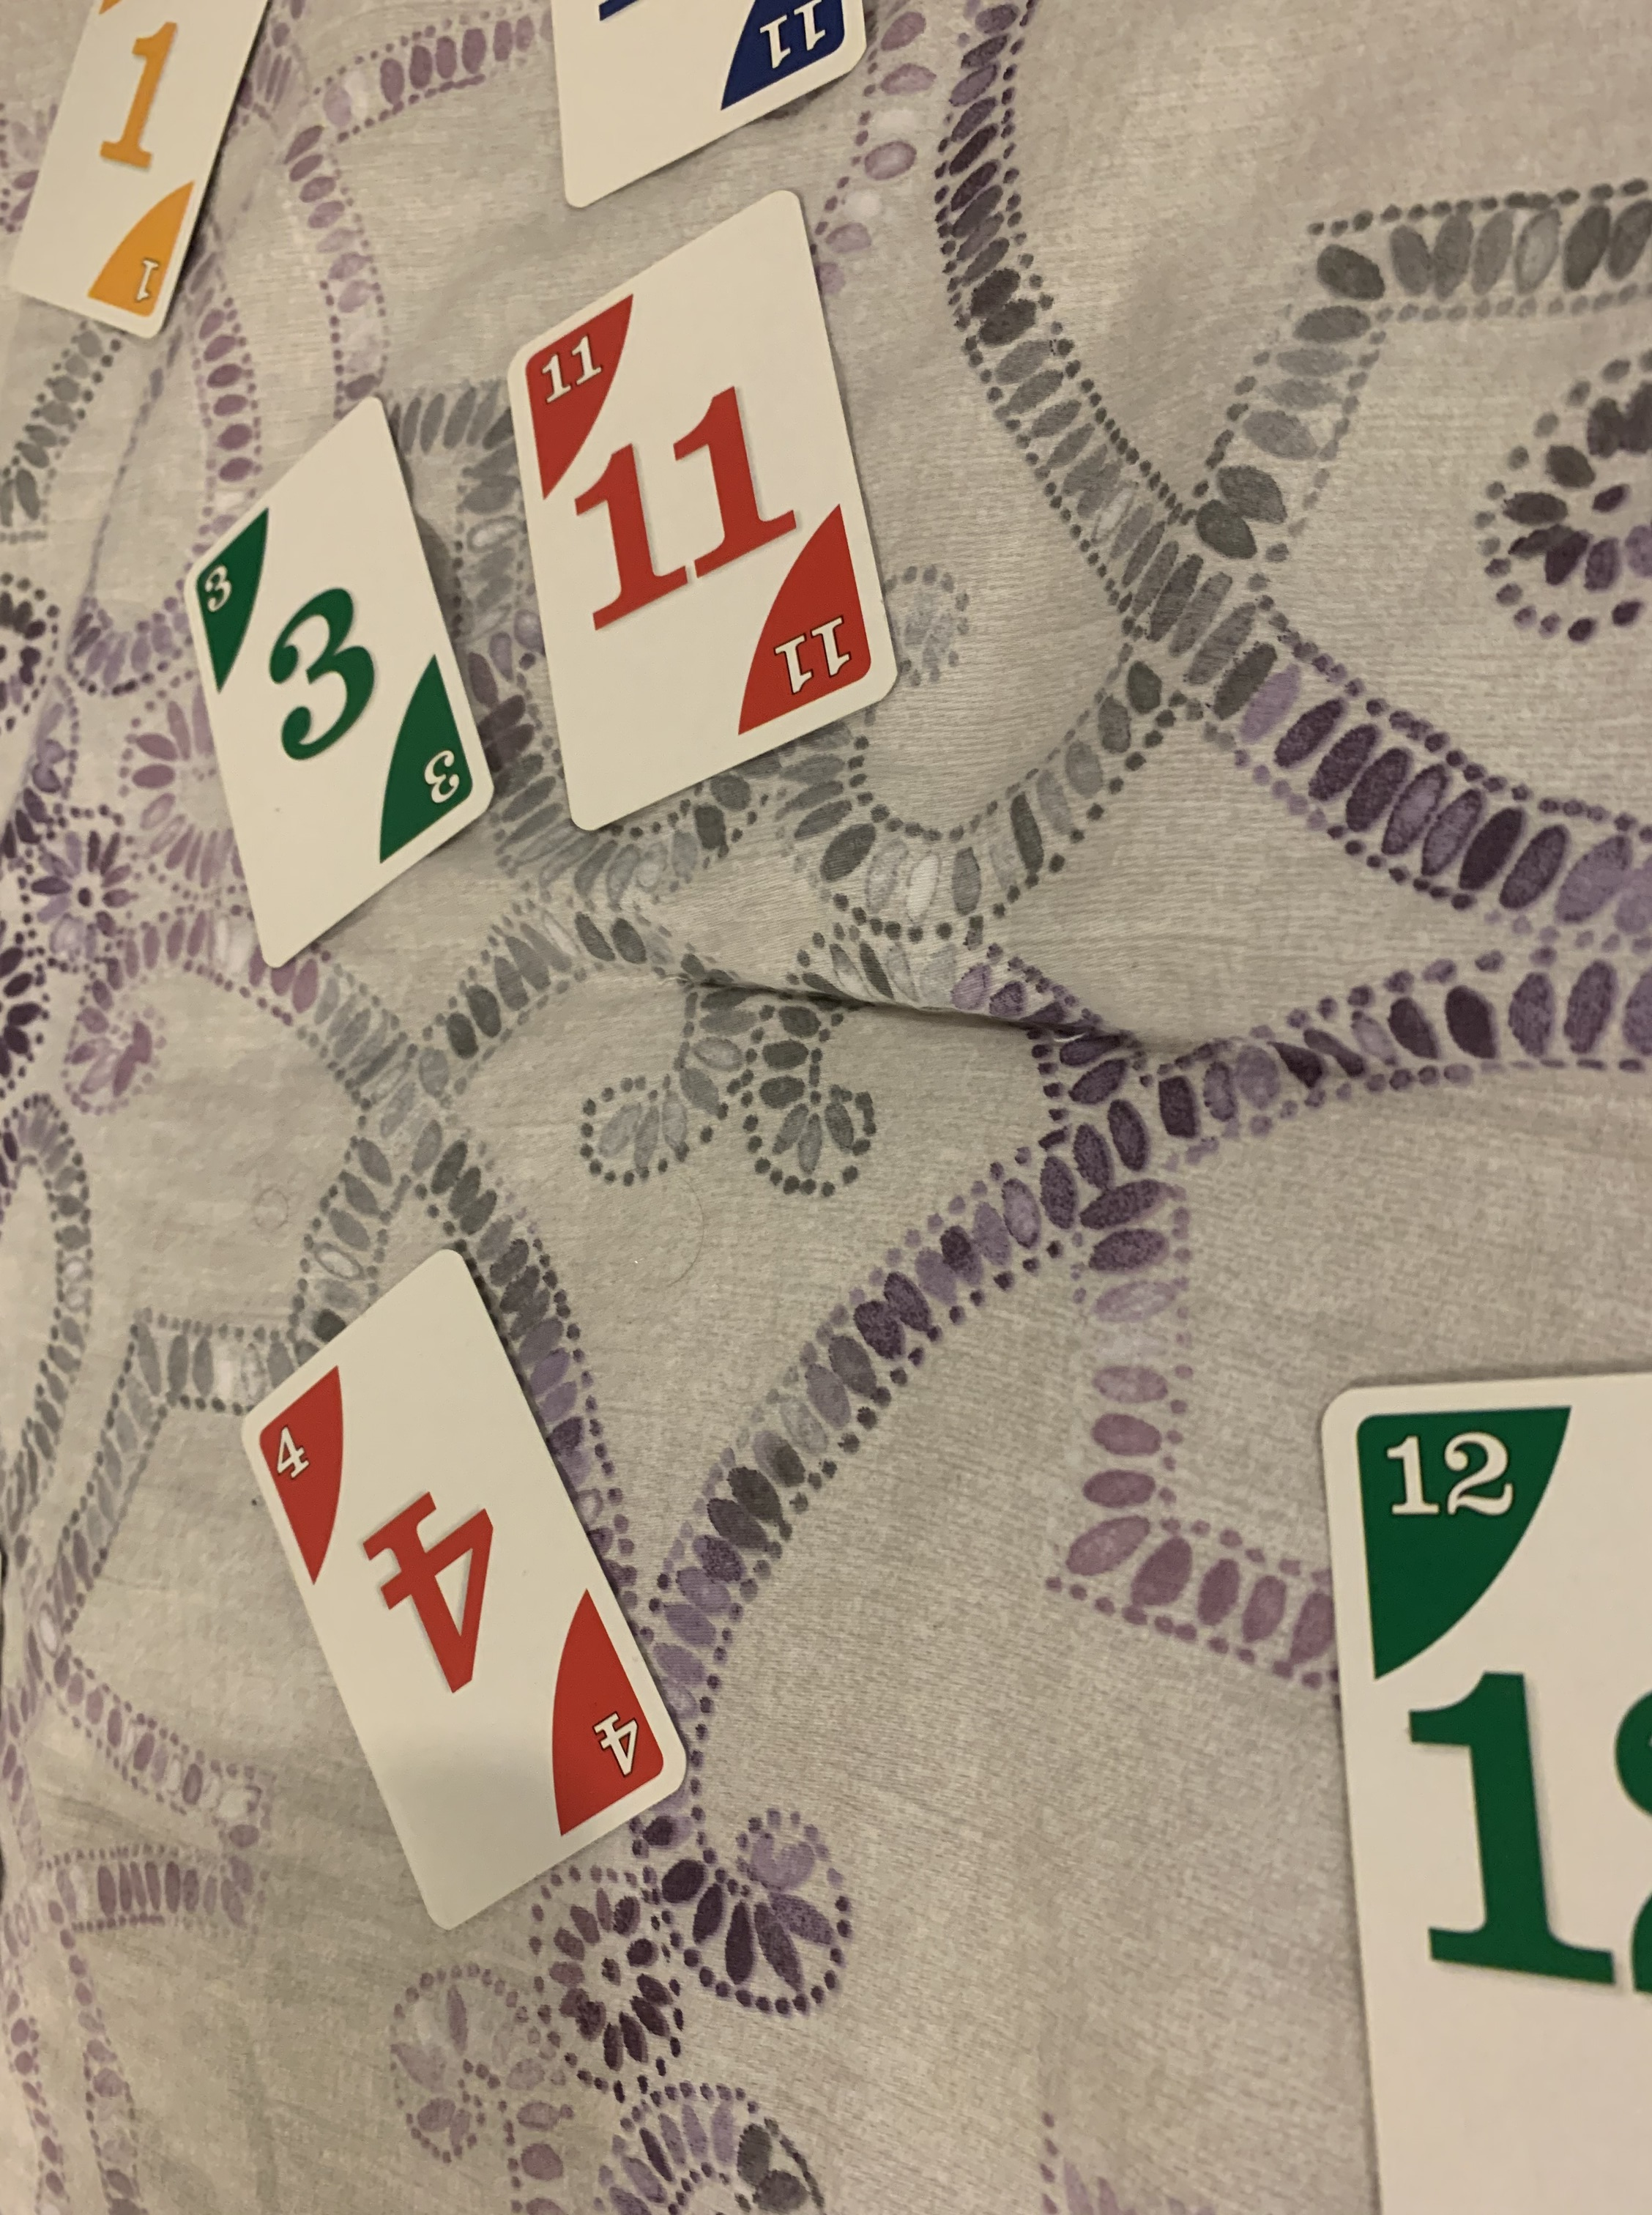eleven: (491, 184, 906, 831)
four: (220, 1243, 696, 1936)
three: (165, 385, 493, 979)
